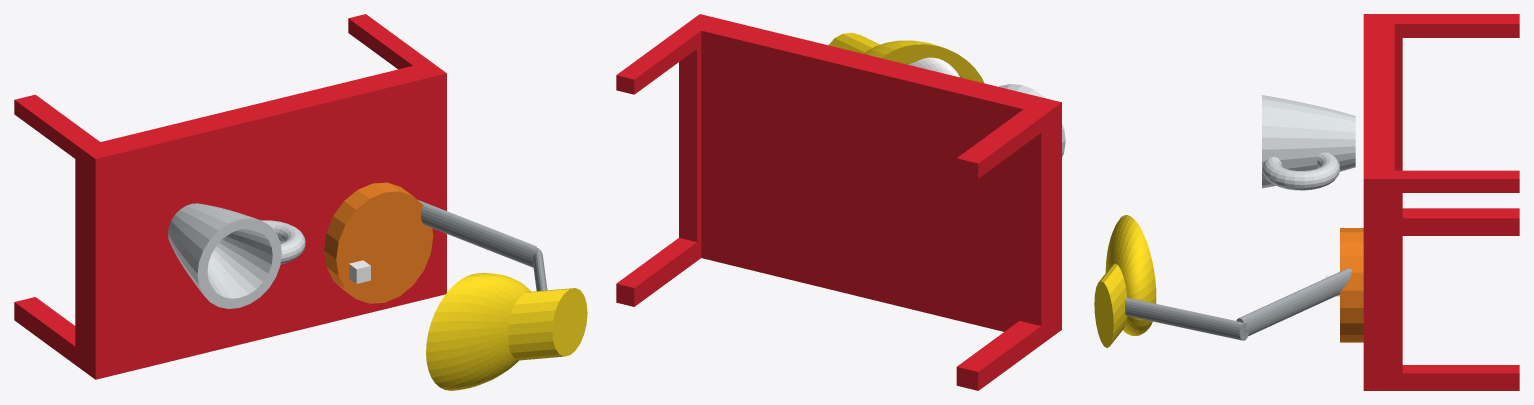
Rendered from tinker.obj.
3 views of the same model, side by side, from view 1: azimuth 30°, elevation 25°; view 2: azimuth 150°, elevation 25°; view 3: azimuth 270°, elevation 25° (orthographic). The views are drawn at different scales.
Visible parts, largest first — view 1: group_0_15277357, group_0_16768282, group_0_14541540, group_0_16089887, group_0_10988977; view 2: group_0_15277357, group_0_16768282, group_0_16448250; view 3: group_0_15277357, group_0_14541540, group_0_16768282, group_0_10988977, group_0_16089887.
Part boxes in pixels (left/top/right/bottom): group_0_15277357: left=14, top=14, right=446, bottom=379; group_0_16768282: left=426, top=273, right=587, bottom=390; group_0_14541540: left=168, top=203, right=305, bottom=308; group_0_16089887: left=324, top=182, right=433, bottom=303; group_0_10988977: left=418, top=200, right=547, bottom=291; group_0_15277357: left=616, top=14, right=1061, bottom=390; group_0_16768282: left=828, top=32, right=984, bottom=83; group_0_16448250: left=907, top=57, right=960, bottom=77; group_0_15277357: left=1363, top=14, right=1519, bottom=390; group_0_14541540: left=1262, top=95, right=1355, bottom=190; group_0_16768282: left=1094, top=215, right=1156, bottom=347; group_0_10988977: left=1125, top=268, right=1351, bottom=340; group_0_16089887: left=1340, top=228, right=1363, bottom=342.
Size of the model in its own units: 109 by 60 by 109.
